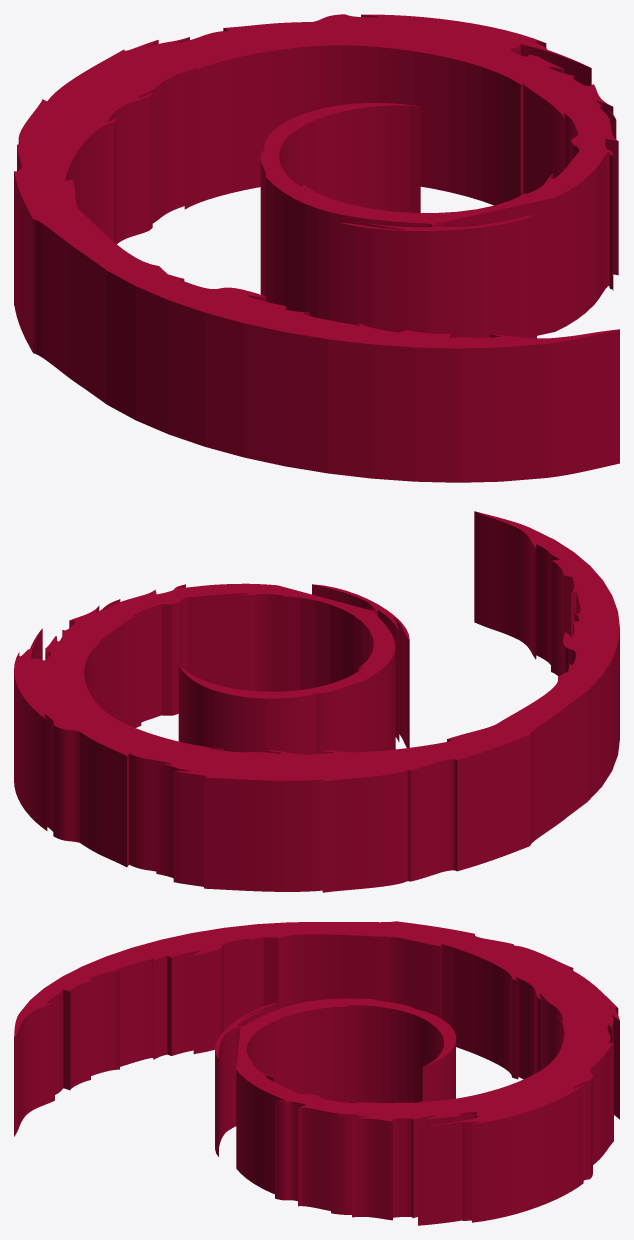
File: debian-wallpaper.fbx
3 views of the same model, one above another, from view 1: azimuth 30°, elevation 25°; view 2: azimuth 150°, elevation 25°; view 3: azimuth 270°, elevation 25° (orthographic). The views are drawn at different scales.
Visible parts, largest first — view 1: Curve.005; view 2: Curve.005; view 3: Curve.005.
Boxes of the visible parts, x1=… form: Curve.005: x1=14, y1=14, x2=619, y2=482; Curve.005: x1=14, y1=511, x2=619, y2=892; Curve.005: x1=14, y1=921, x2=619, y2=1225.
Size of what is drawn, in the model's own units: 102 by 22.7 by 126.
